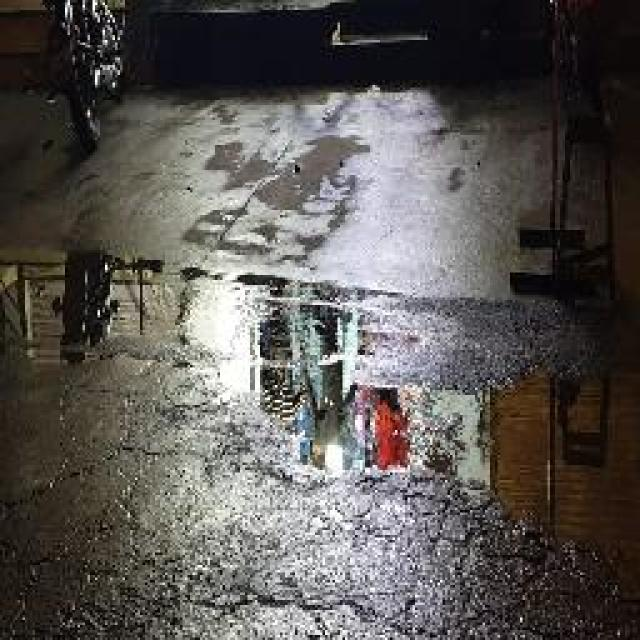stagnation: (10, 295, 403, 468), (427, 334, 640, 557), (173, 114, 380, 257)
